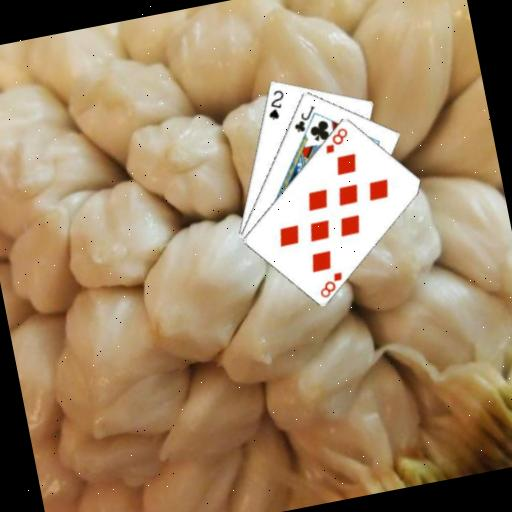2S: (261, 86, 290, 122)
8D: (319, 123, 354, 156), (313, 269, 348, 301)
JC: (287, 102, 321, 136)
